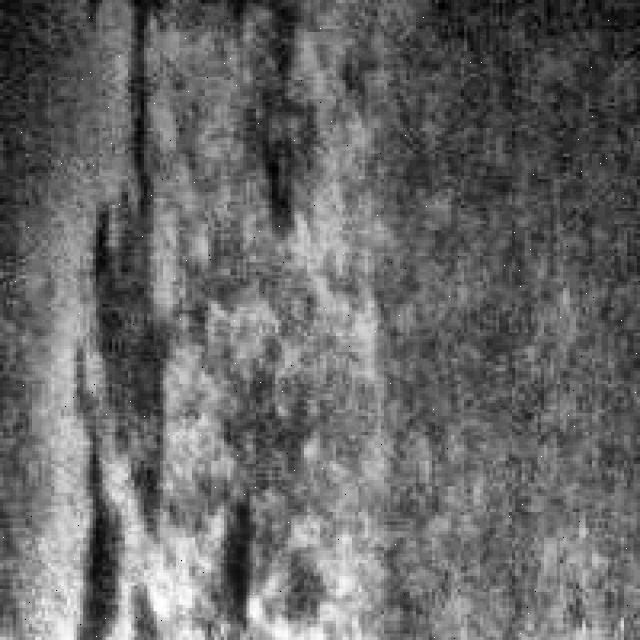Patches: (74, 0, 183, 630), (202, 380, 340, 630), (236, 0, 330, 243)
